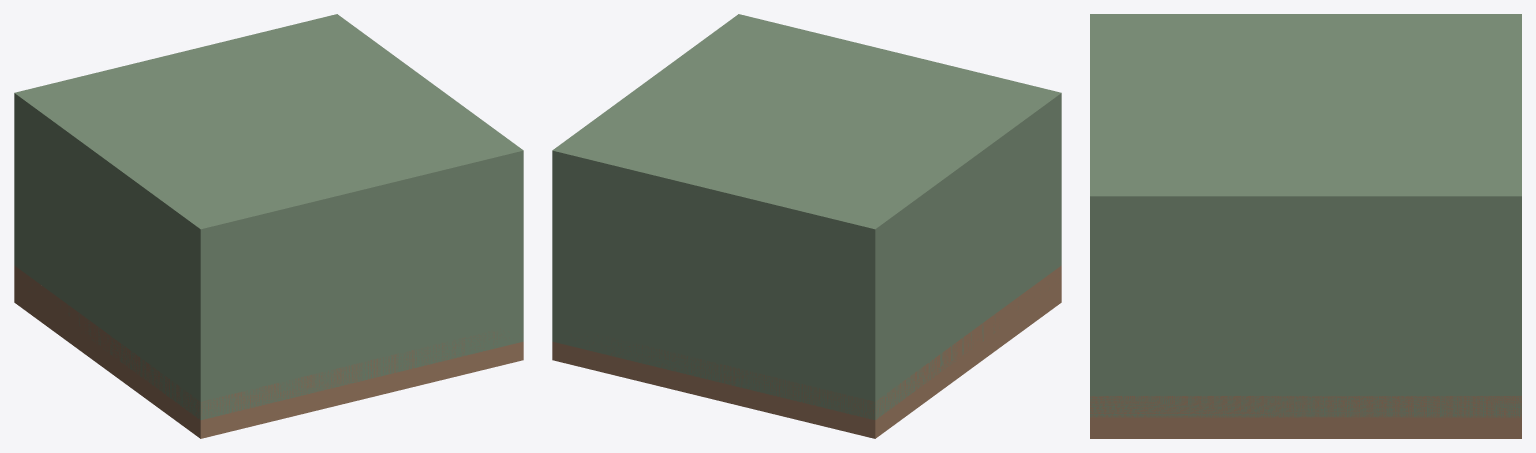
Rendered from sunland_hedge.glb.
3 views of the same model, side by side, from view 1: azimuth 30°, elevation 25°; view 2: azimuth 150°, elevation 25°; view 3: azimuth 270°, elevation 25° (orthographic). The views are drawn at different scales.
Parts seen in each view (by area): view 1: Hedge, HedgeBase; view 2: Hedge, HedgeBase; view 3: Hedge, HedgeBase.
Part boxes in pixels (bbox=[...]): Hedge: bbox=[14, 14, 523, 419]; HedgeBase: bbox=[14, 265, 523, 438]; Hedge: bbox=[552, 14, 1061, 419]; HedgeBase: bbox=[552, 265, 1061, 438]; Hedge: bbox=[1090, 14, 1521, 417]; HedgeBase: bbox=[1090, 396, 1521, 438].
Bounding box in the file's own units: 4 × 2.48 × 4.
